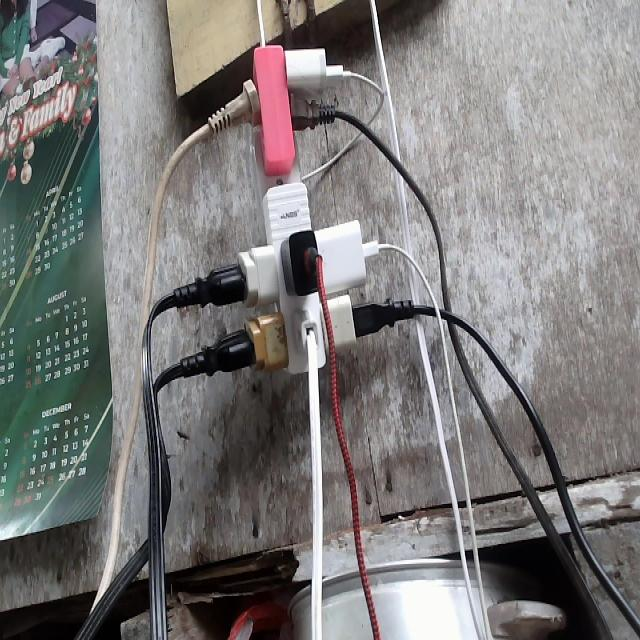-: (171, 42, 412, 378)
